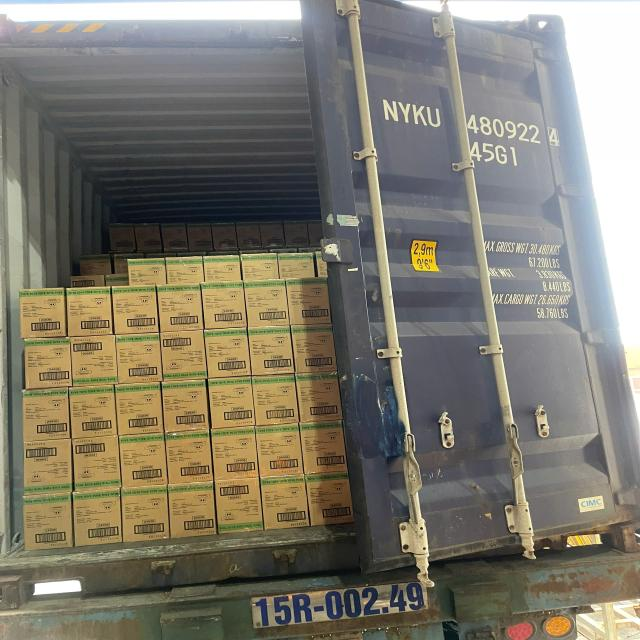Carton: (298, 417, 349, 474), (255, 422, 306, 478), (22, 495, 72, 551), (210, 424, 260, 480), (164, 429, 214, 484), (119, 432, 168, 488), (74, 493, 123, 548), (162, 380, 211, 435), (159, 330, 209, 383), (21, 386, 70, 440), (115, 383, 164, 437), (110, 285, 159, 339), (71, 436, 119, 491), (22, 439, 72, 491), (70, 384, 117, 439), (289, 324, 339, 375), (19, 287, 67, 340), (24, 336, 72, 389), (115, 333, 163, 386), (248, 324, 295, 378), (208, 377, 255, 431), (243, 278, 293, 328), (65, 287, 114, 338), (295, 373, 344, 424), (122, 491, 169, 544), (170, 487, 217, 540), (68, 334, 115, 387), (306, 477, 354, 527), (252, 374, 300, 424), (262, 479, 309, 530), (204, 328, 250, 380), (285, 277, 333, 326), (157, 284, 204, 333), (216, 479, 263, 528), (200, 280, 246, 330)
